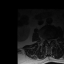CCS_normal: (48, 38, 49, 45)
LFS_severe_stenosis: (51, 37, 53, 42)
LLS_stenosis: (50, 37, 51, 42)
RFS_severe_stenosis: (44, 37, 46, 42)
RLS_stenosis: (46, 38, 48, 43)
